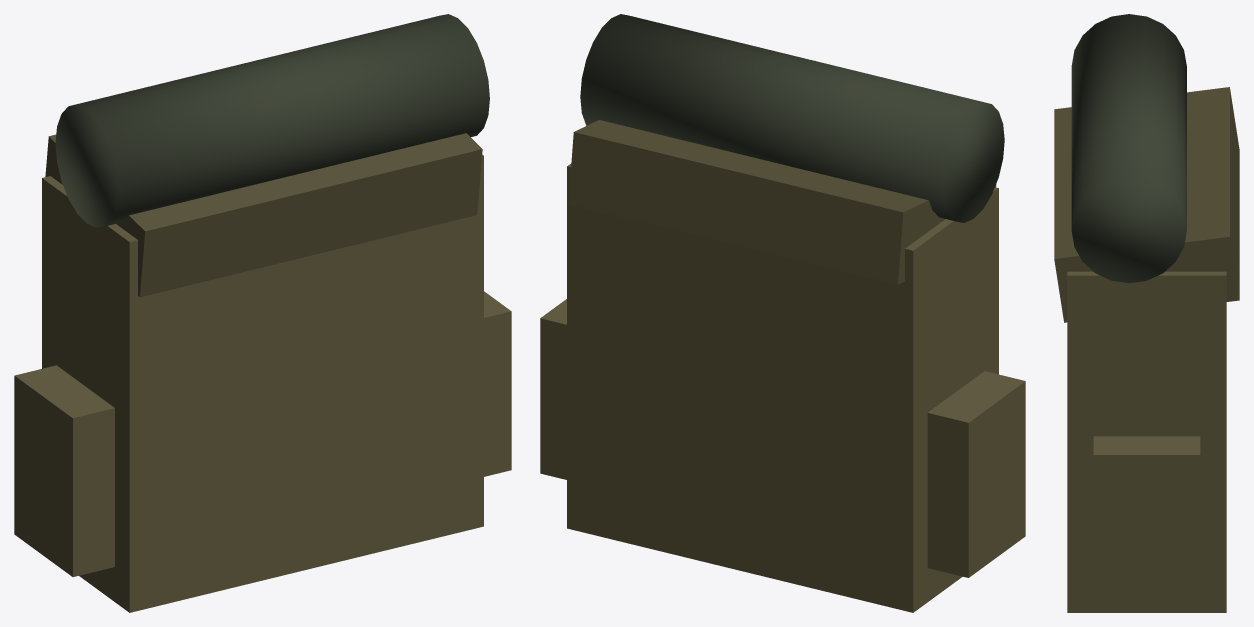
Rendered from Backpack_Red.fbx.
3 renders of one model, left to right at view 1: azimuth 30°, elevation 25°; view 2: azimuth 150°, elevation 25°; view 3: azimuth 270°, elevation 25°, orthographic. The views are drawn at different scales.
Parts seen in each view (by area): view 1: Pack, Bedroll, Flap, SidePocketL, SidePocketR; view 2: Pack, Bedroll, Flap, SidePocketL, SidePocketR; view 3: Pack, Bedroll, SidePocketR, Flap.
Part boxes in pixels (box(x1,y1,x2,y2)): Pack: box(42, 155, 483, 612); Bedroll: box(55, 14, 489, 227); Flap: box(45, 133, 482, 297); SidePocketL: box(14, 365, 114, 576); SidePocketR: box(484, 291, 511, 476); Pack: box(567, 163, 998, 612); Bedroll: box(580, 14, 1004, 222); Flap: box(568, 120, 996, 284); SidePocketL: box(927, 371, 1025, 577); SidePocketR: box(540, 299, 566, 479); Pack: box(1067, 271, 1226, 612); Bedroll: box(1071, 14, 1186, 283); SidePocketR: box(1093, 436, 1200, 599); Flap: box(1054, 87, 1239, 322).
Size of the model in its own units: 52 by 20.92 by 54.5.
